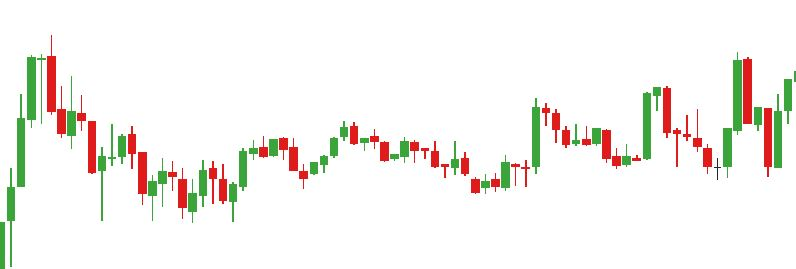sell: (532, 83, 674, 147)
